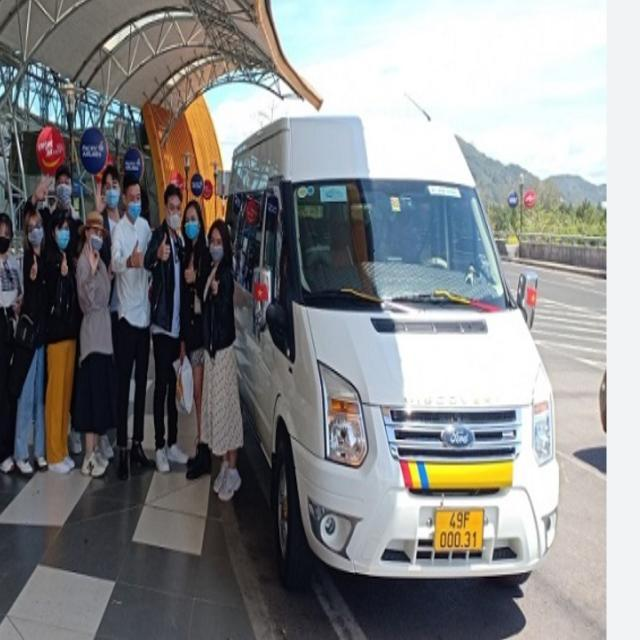car: (227, 120, 563, 631)
plate: (426, 501, 489, 558)
